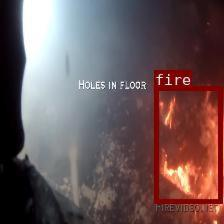fire: (154, 86, 222, 202)
